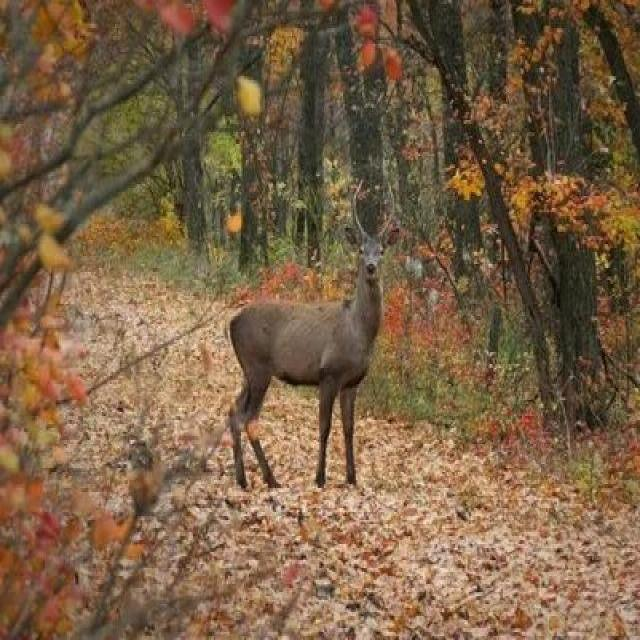deer: (205, 175, 454, 528)
